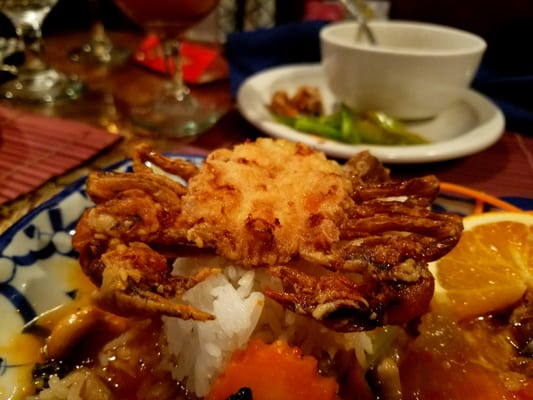salad: (345, 0, 378, 45)
sandwich: (0, 135, 128, 241)
sushi: (320, 17, 489, 122)
